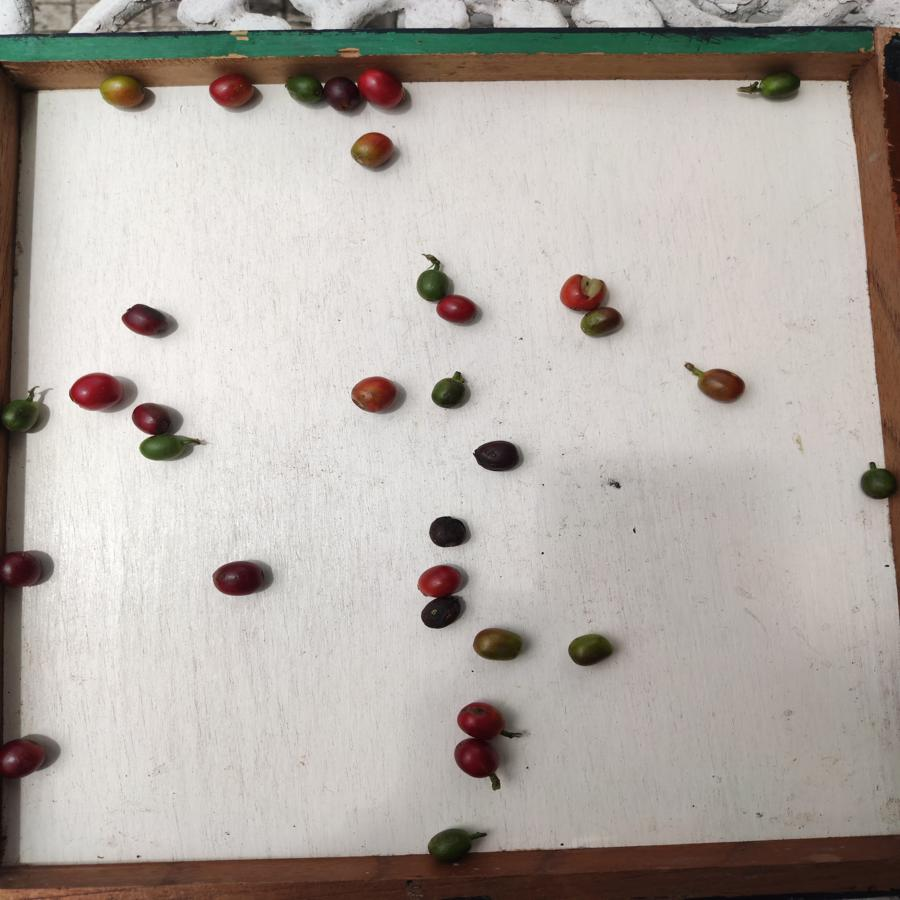Inmaduro: (424, 828, 478, 862), (1, 399, 41, 437), (755, 68, 801, 101), (857, 466, 898, 503), (281, 71, 324, 106), (430, 374, 472, 409), (138, 434, 184, 460), (415, 264, 448, 300)
Maduro: (67, 370, 120, 410), (359, 68, 406, 113), (455, 701, 507, 741), (414, 562, 465, 597), (208, 71, 253, 110), (559, 274, 605, 310), (434, 296, 478, 326)
Pinton: (96, 71, 150, 109), (348, 131, 395, 172), (694, 368, 748, 403), (473, 627, 525, 661), (350, 377, 399, 413), (567, 632, 611, 669), (580, 308, 622, 339)
Sobremaduro: (1, 734, 46, 784), (210, 560, 264, 597), (452, 739, 500, 780), (471, 438, 520, 473), (123, 303, 169, 338), (1, 550, 41, 589), (419, 597, 463, 631), (324, 74, 361, 112), (429, 514, 467, 548), (129, 403, 171, 433)
